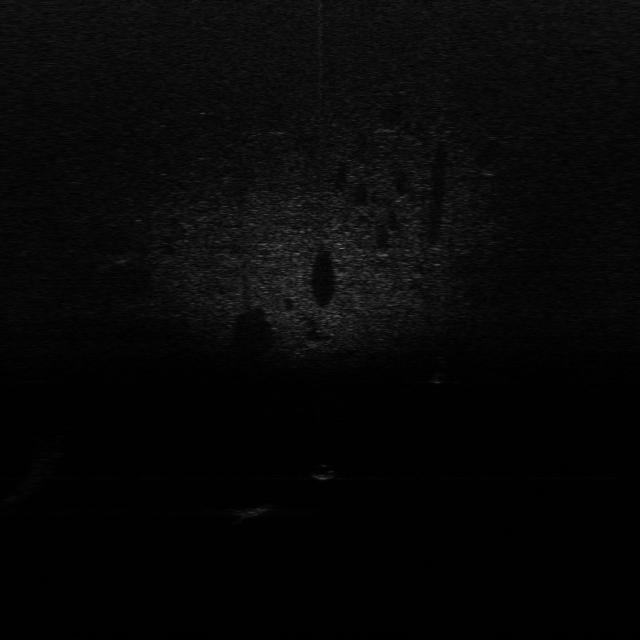ball: (311, 463, 338, 483)
square cage: (226, 499, 280, 520)
tyre: (427, 354, 454, 384)
